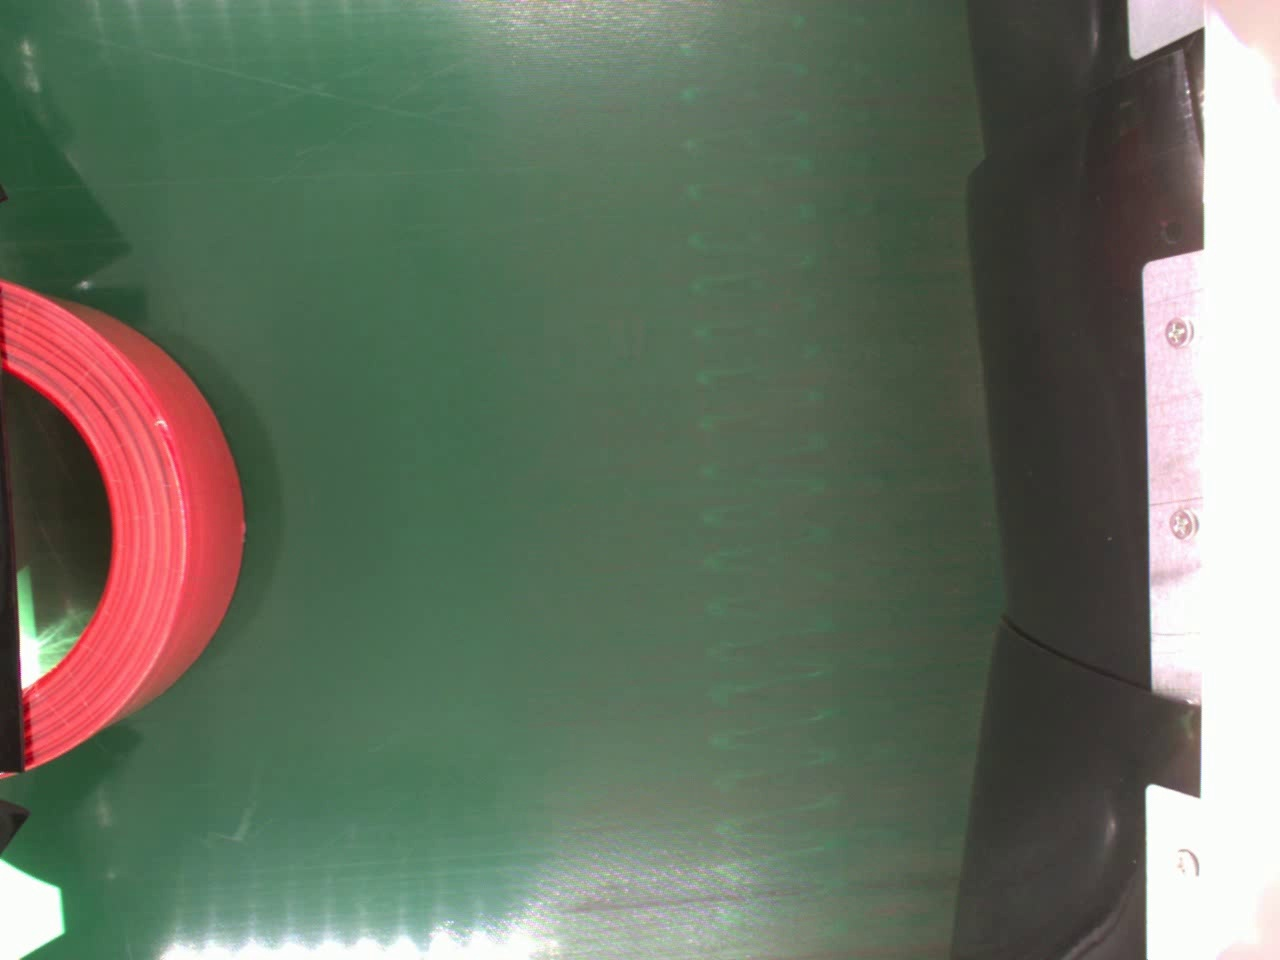red: (0, 276, 248, 774)
